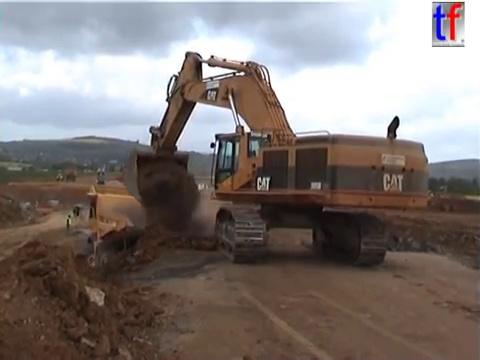excavator: (121, 48, 431, 268)
truck: (84, 182, 236, 275), (141, 182, 245, 247), (418, 189, 469, 213), (63, 169, 76, 182), (55, 171, 64, 181)
worker: (64, 212, 73, 235)
